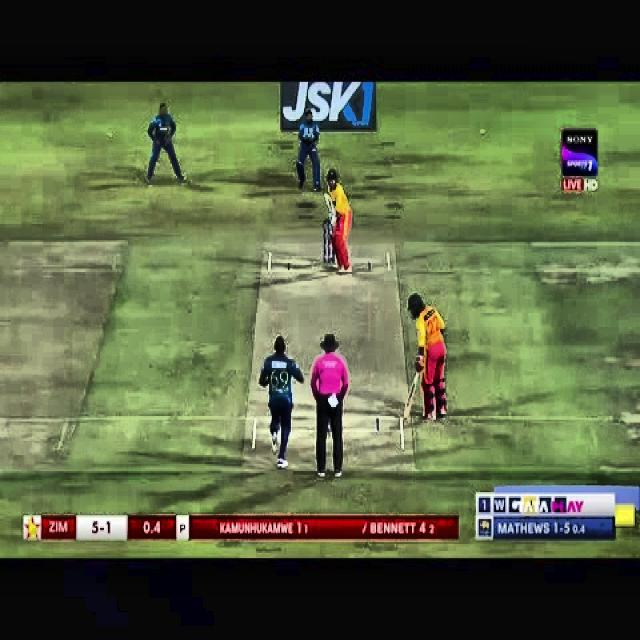Left-stump: (324, 222, 326, 263)
Middle-stump: (328, 222, 330, 263)
Right-stump: (332, 246, 335, 263)
